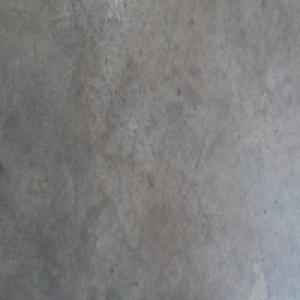Pliers: (186, 292, 197, 299)
